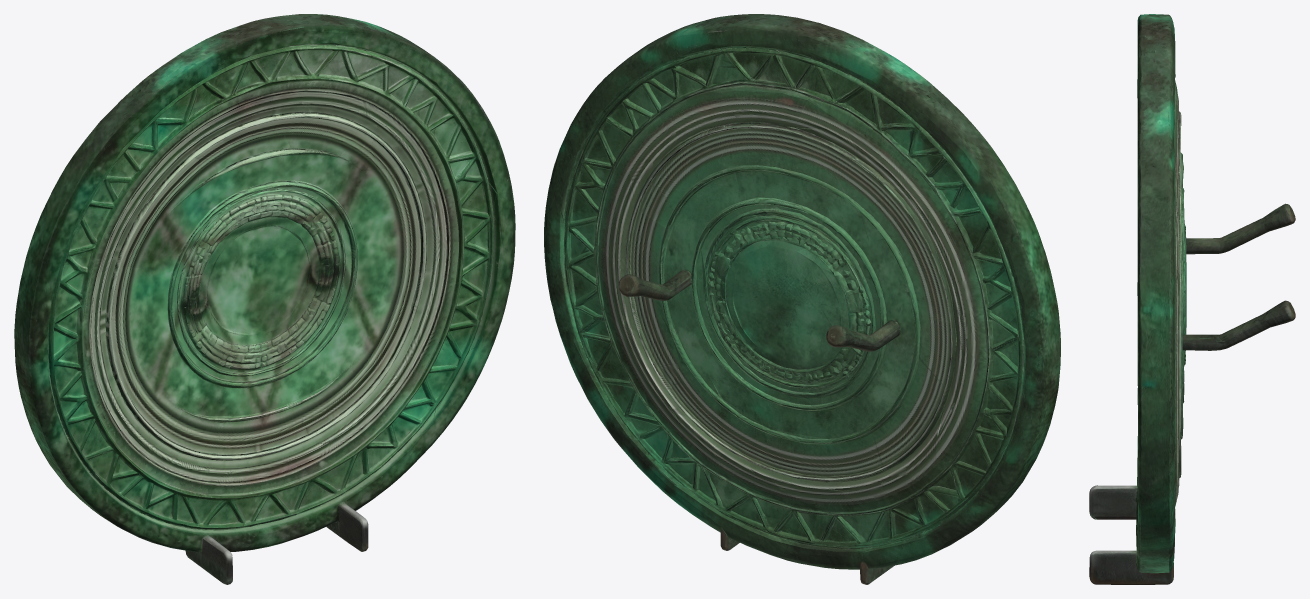
File: mirror.glb
3 views of the same model, side by side, from view 1: azimuth 30°, elevation 25°; view 2: azimuth 150°, elevation 25°; view 3: azimuth 270°, elevation 25° (orthographic). The views are drawn at different scales.
Bounding box in the file's own units: 1.86 × 1.9 × 0.6917.
Materials: 1 (1 with a texture image).
